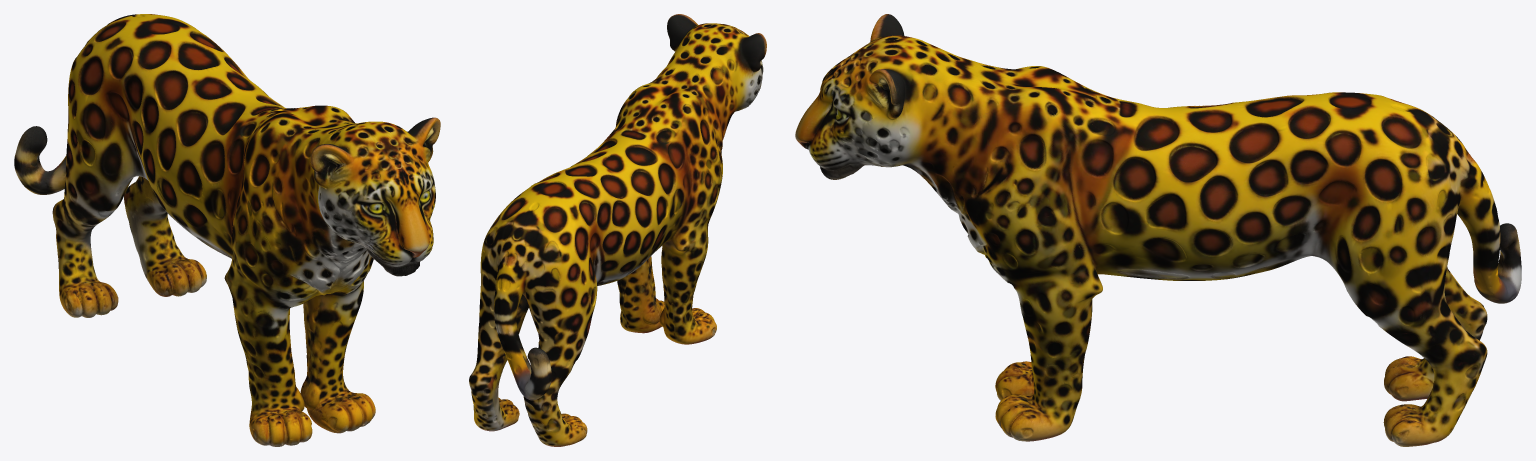
File: Jaguar-web.glb
3 renders of one model, left to right at view 1: azimuth 30°, elevation 25°; view 2: azimuth 150°, elevation 25°; view 3: azimuth 270°, elevation 25°, orthographic. The views are drawn at different scales.
Bounding box in the file's own units: 0.4789 × 1.13 × 2.
1 material, 1 textured.
